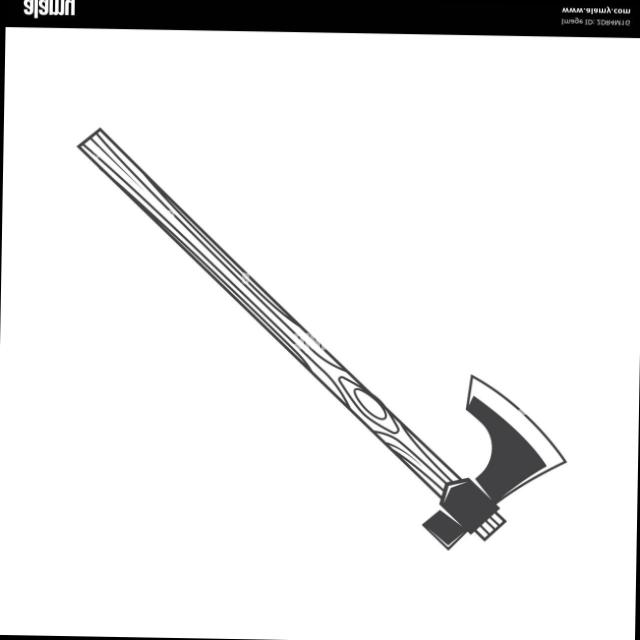Gun: (15, 122, 609, 601)
